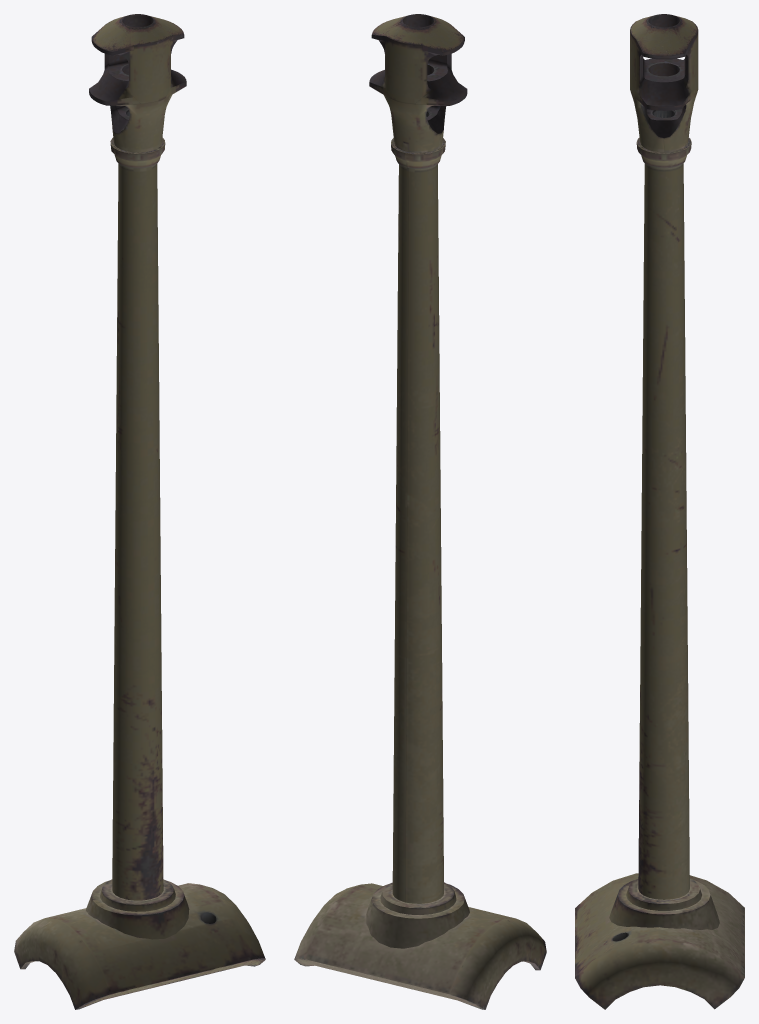
Rendered from Gun_02.glb.
3 views of the same model, side by side, from view 1: azimuth 30°, elevation 25°; view 2: azimuth 150°, elevation 25°; view 3: azimuth 270°, elevation 25° (orthographic).
Parts seen in each view (by area): view 1: set_0_group_0; view 2: set_0_group_0; view 3: set_0_group_0.
Part boxes in pixels (x1=…): set_0_group_0: x1=14, y1=14, x2=265, y2=1009; set_0_group_0: x1=294, y1=14, x2=546, y2=1009; set_0_group_0: x1=575, y1=14, x2=744, y2=1009.
Bounding box in the file's own units: 1.02 × 5.01 × 0.8166.
1 material, 1 textured.
